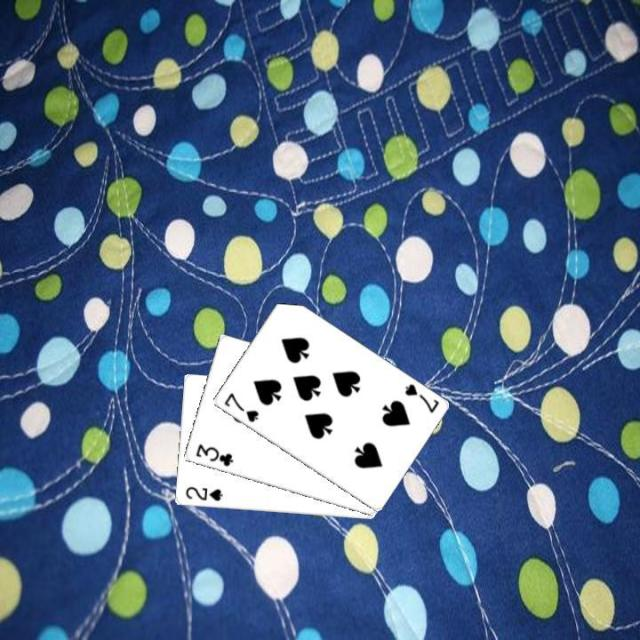2S: (181, 483, 224, 503)
3C: (191, 440, 235, 468)
7S: (220, 388, 260, 424), (400, 380, 441, 415)
